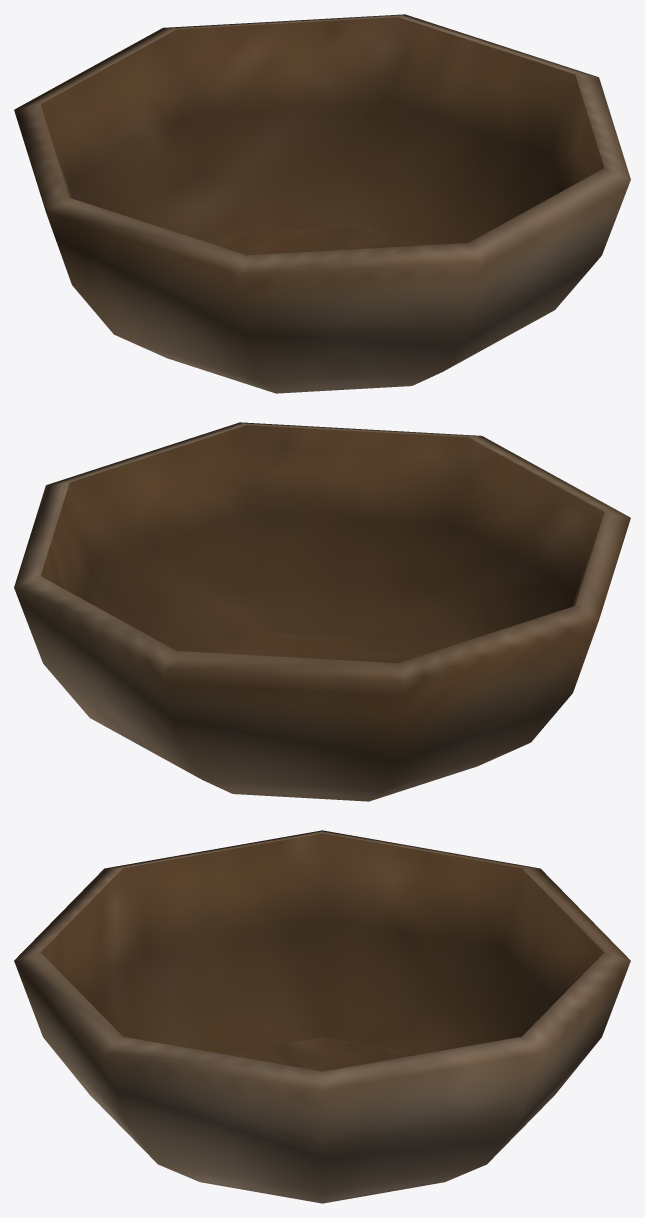
The model's file is Potion 9.fbx.
The picture shows the model from 3 angles, top to bottom: view 1: azimuth 30°, elevation 25°; view 2: azimuth 150°, elevation 25°; view 3: azimuth 270°, elevation 25°; orthographic projection. The views are drawn at different scales.
Parts seen in each view (by area): view 1: Potion_9; view 2: Potion_9; view 3: Potion_9.
Part boxes in pixels (x1,y1,x2,y2): Potion_9: [14, 14, 630, 393]; Potion_9: [14, 422, 630, 801]; Potion_9: [14, 830, 630, 1203].
Size of the model in its own units: 0.555 by 0.1765 by 0.5549.
